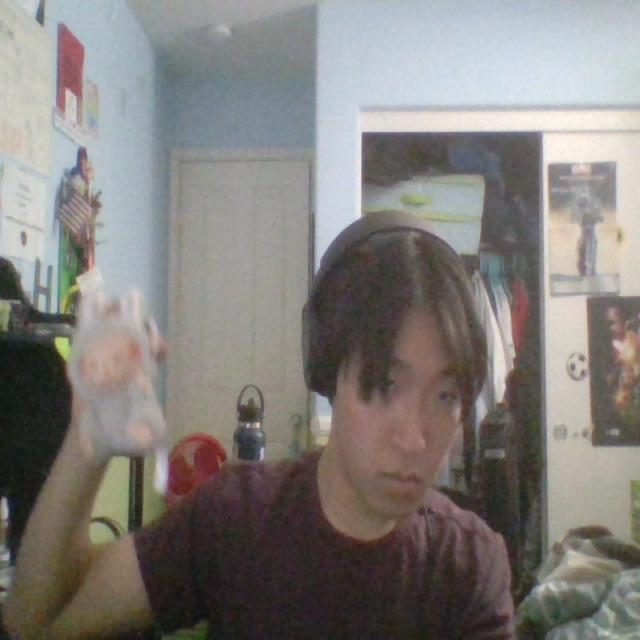labubu: (68, 269, 165, 456)
